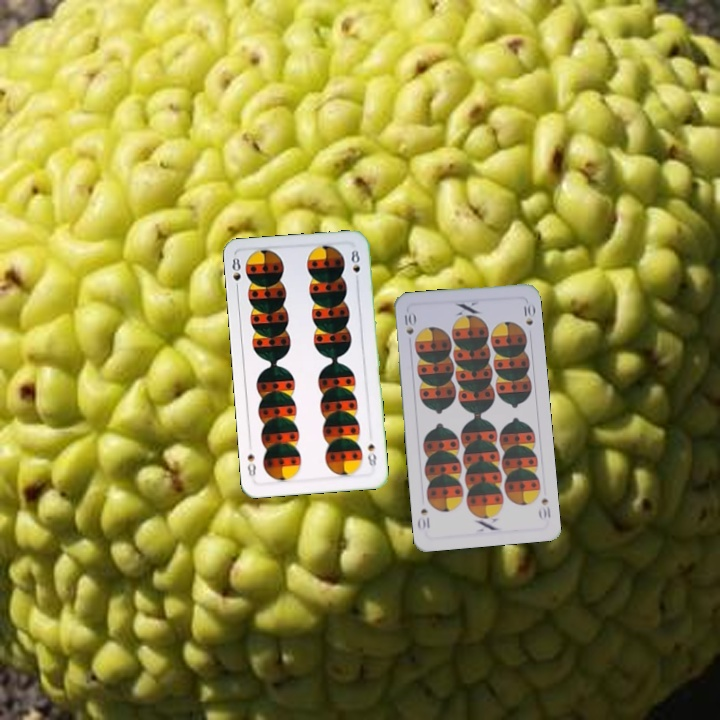S10: (535, 494, 553, 522), (400, 309, 417, 337)
S8: (228, 253, 243, 294), (363, 440, 379, 473)
